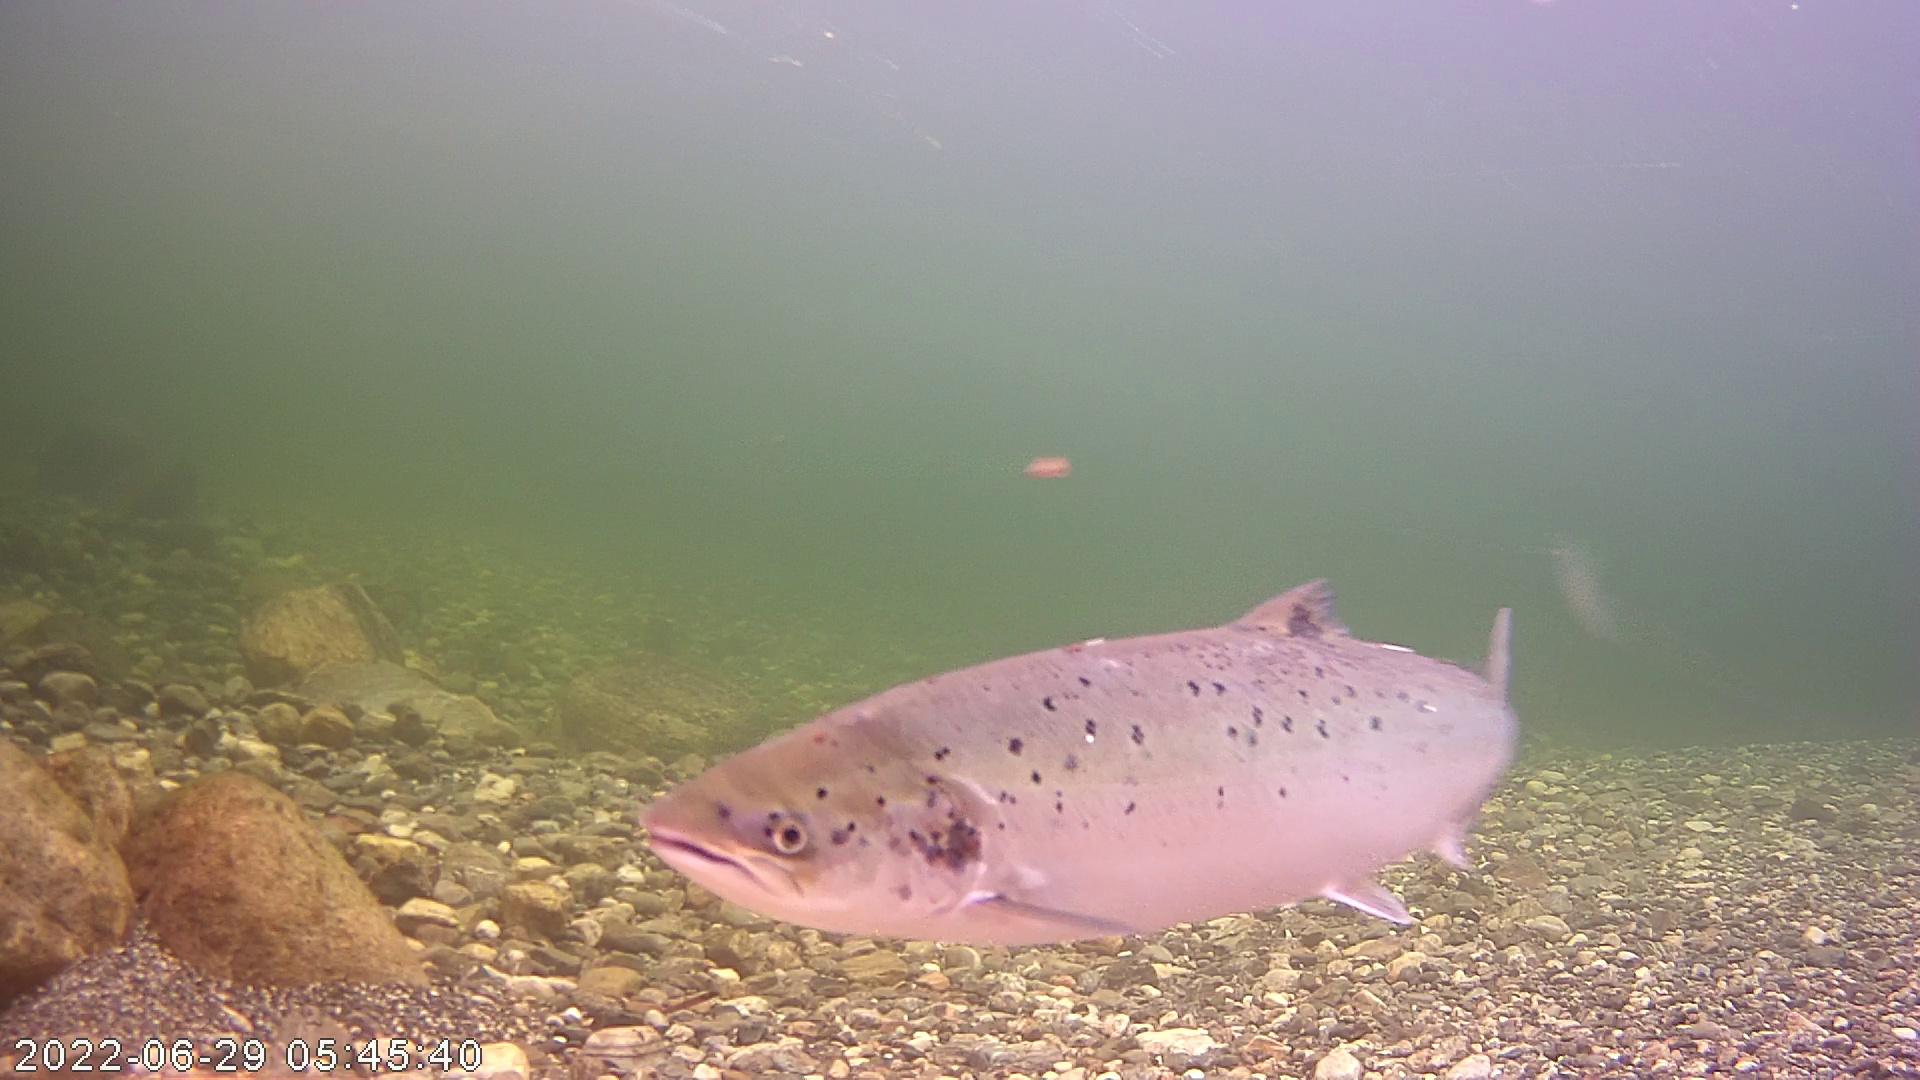salmon: (661, 497, 1543, 963)
